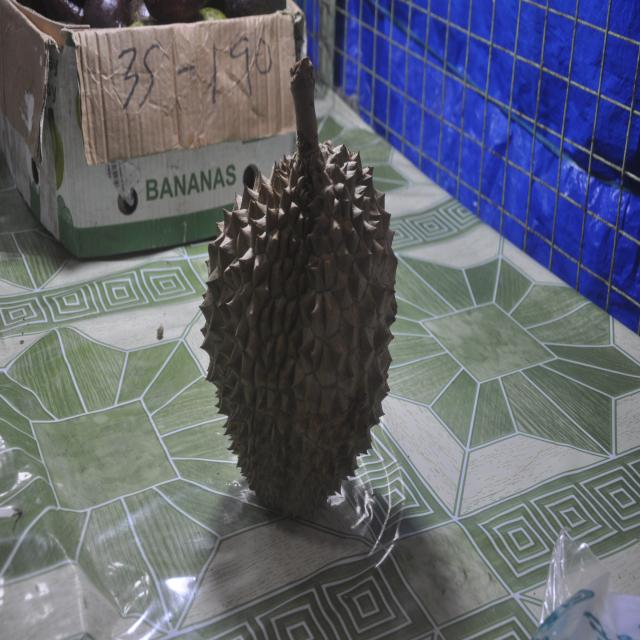mature: (200, 57, 397, 516)
